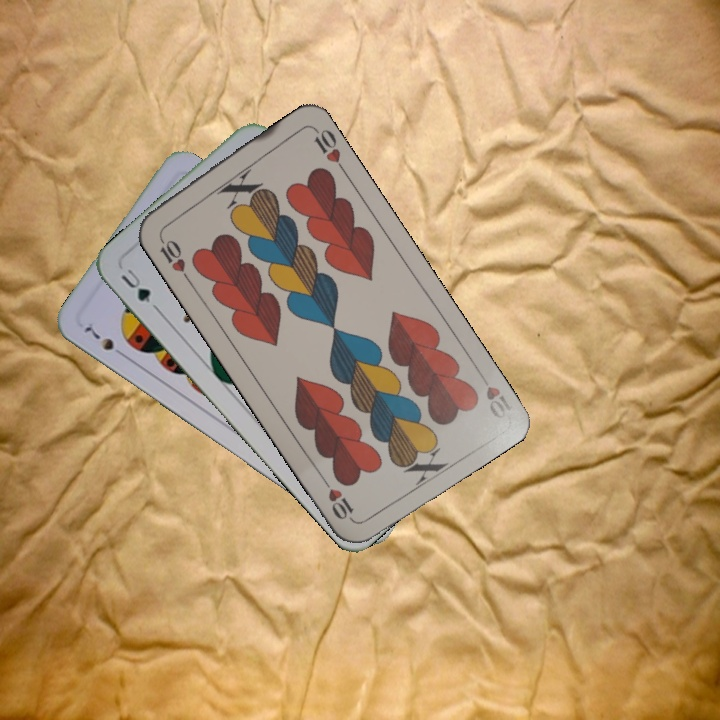GU: (116, 264, 154, 306)
H10: (473, 366, 514, 422), (154, 230, 192, 283)
S7: (81, 322, 129, 361)
